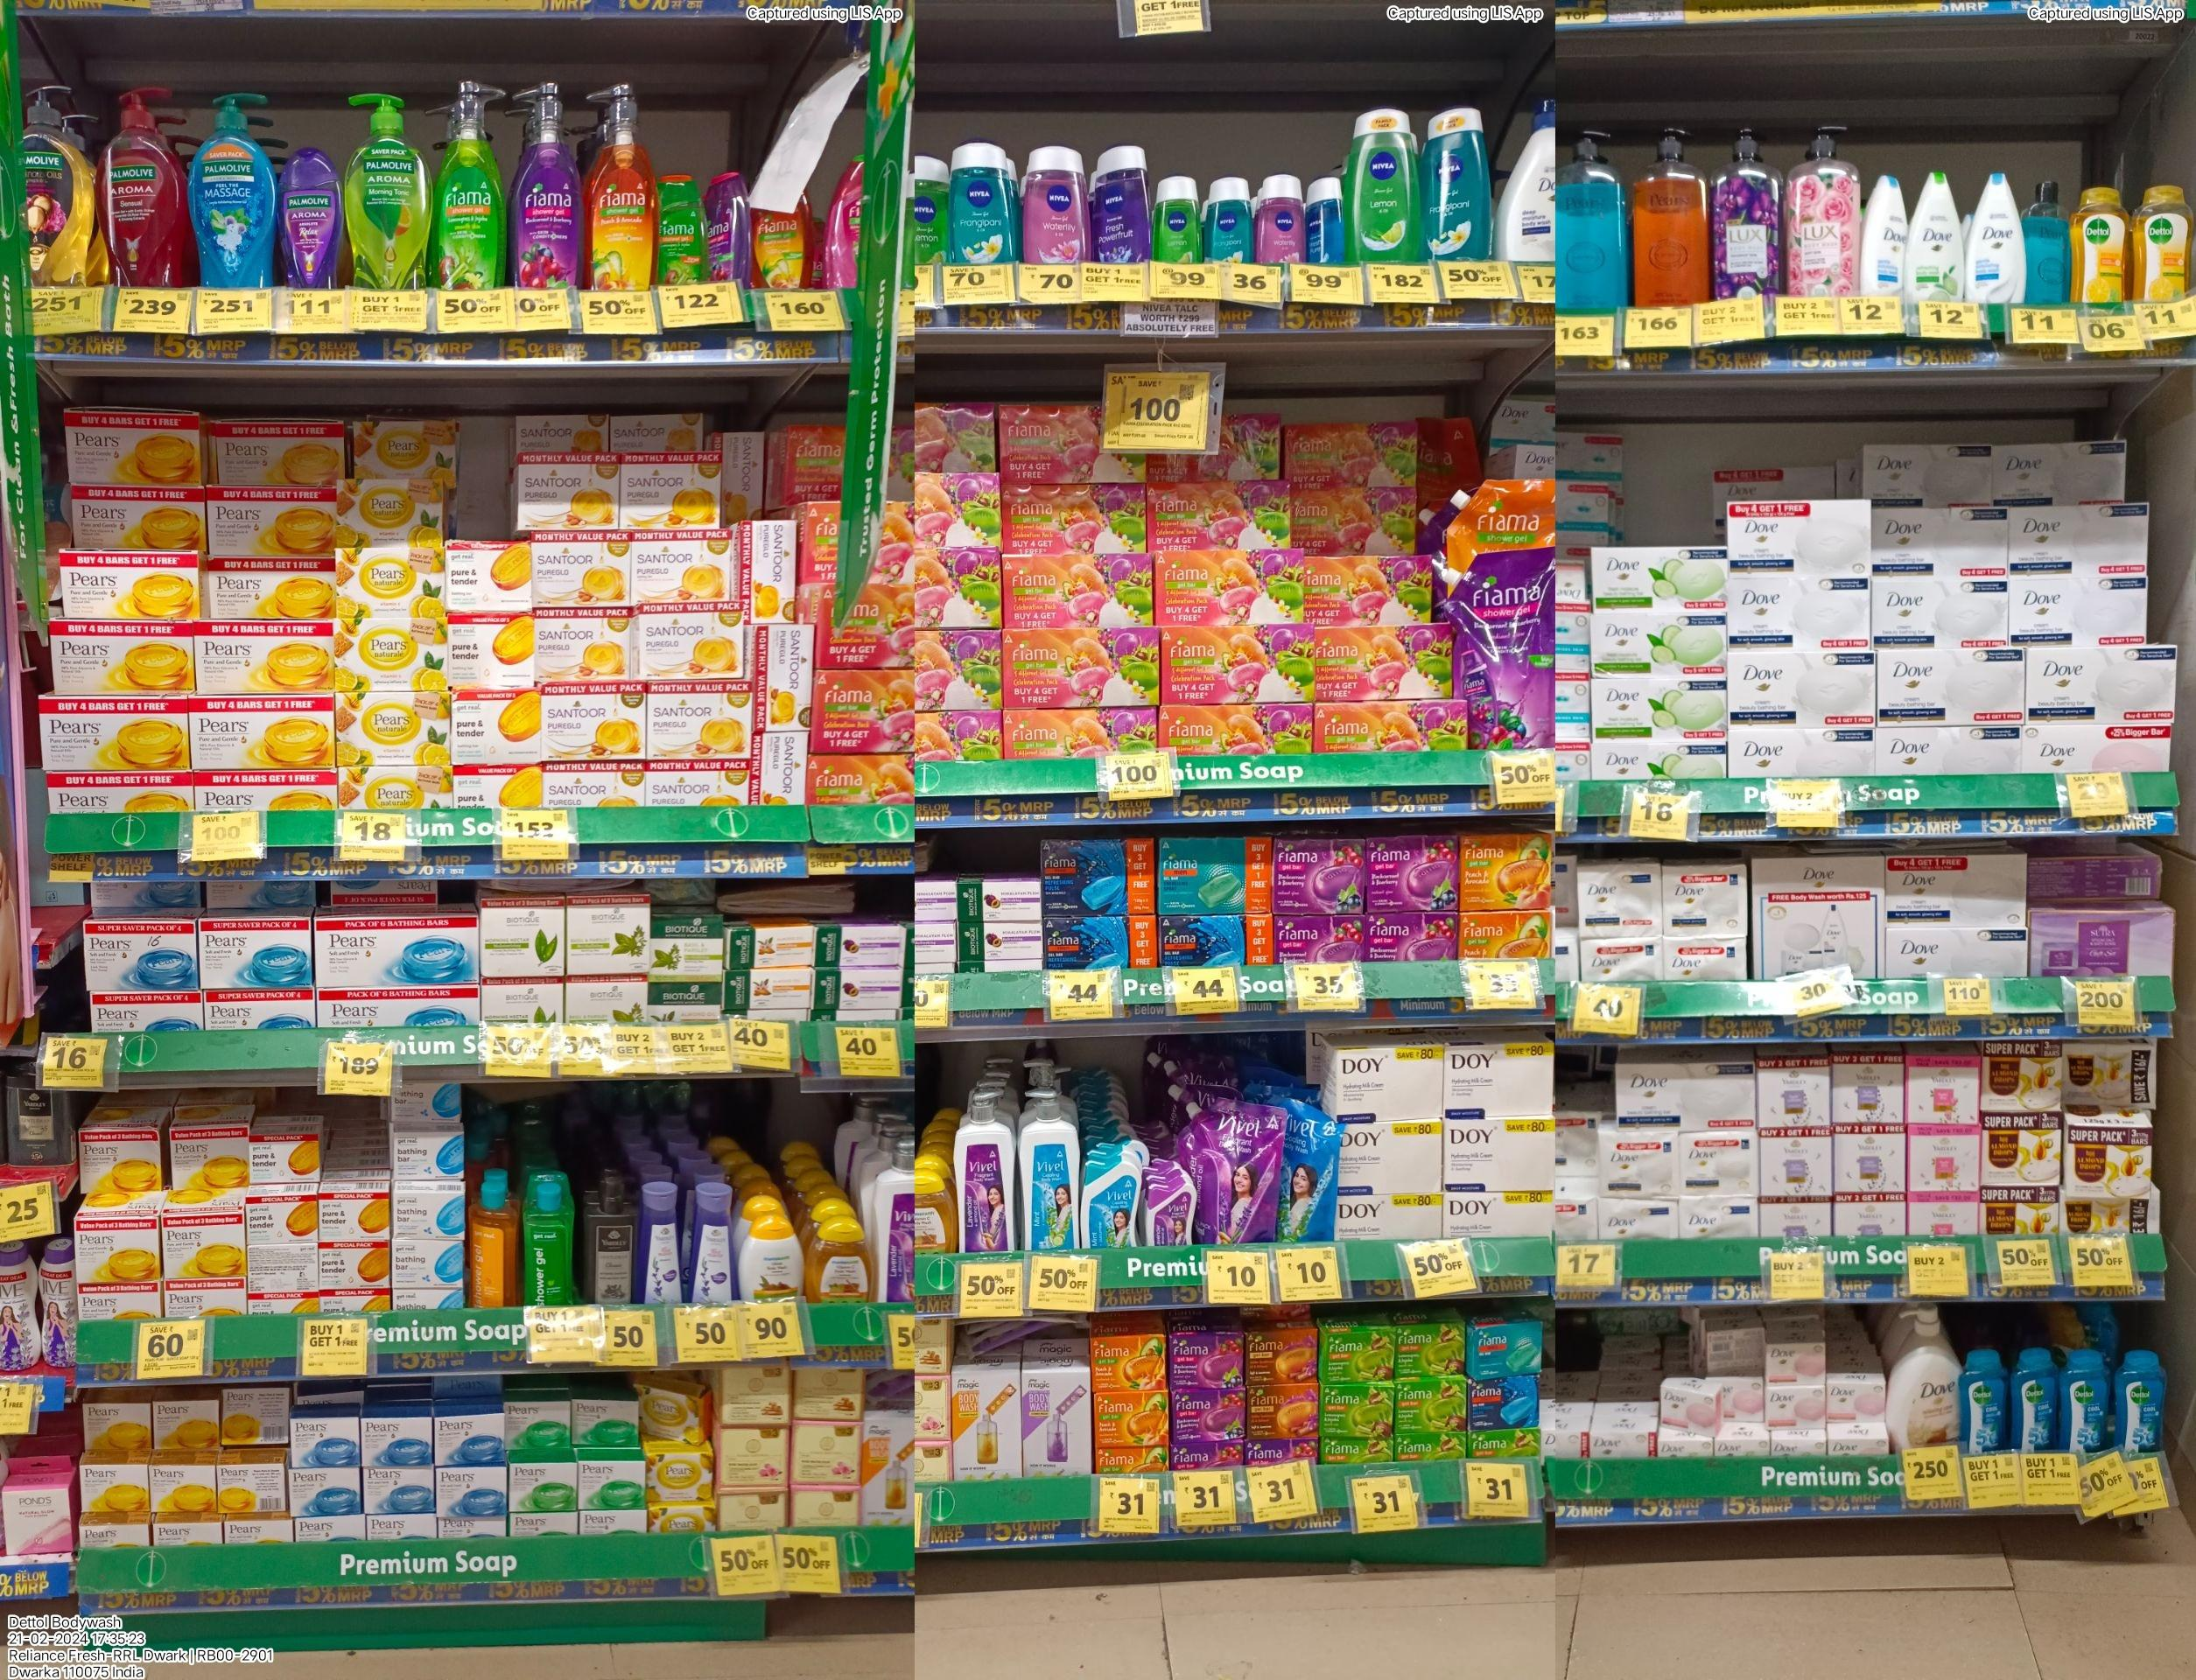Dettol_Bodywash_Refresh: (2131, 184, 2196, 304), (2069, 187, 2131, 304)
Dove_Gentle_Exfoliating_Body_Wash_250ML: (1965, 169, 2027, 304), (1861, 169, 1906, 300)
Dove_Refreshing_Body_Wash_250ML: (1905, 171, 1965, 302)
Fiama_Shower_Gel_Lemongrass_and_Jojoba_250ML: (657, 171, 708, 284)
Nivea_Shower_Gel_Frangipani_and_Oil_250ML: (1421, 106, 1492, 259), (946, 138, 1015, 265)
Nivea_Shower_Gel_Fresh_Powerfruit_250ML: (1091, 143, 1151, 263)
Nivea_Shower_Gel_Lemon_and_Oil_250ML: (1343, 106, 1421, 263)
Nivea_Shower_Gel_Waterlily_and_Oil_250ML: (1020, 143, 1089, 265)
Palmolive_Aroma_Relax_250ML: (277, 148, 342, 288)
Pears_Pure_Glycerin_and_Mint_Extracts_Body_Wash_250ML: (2025, 180, 2069, 302)
